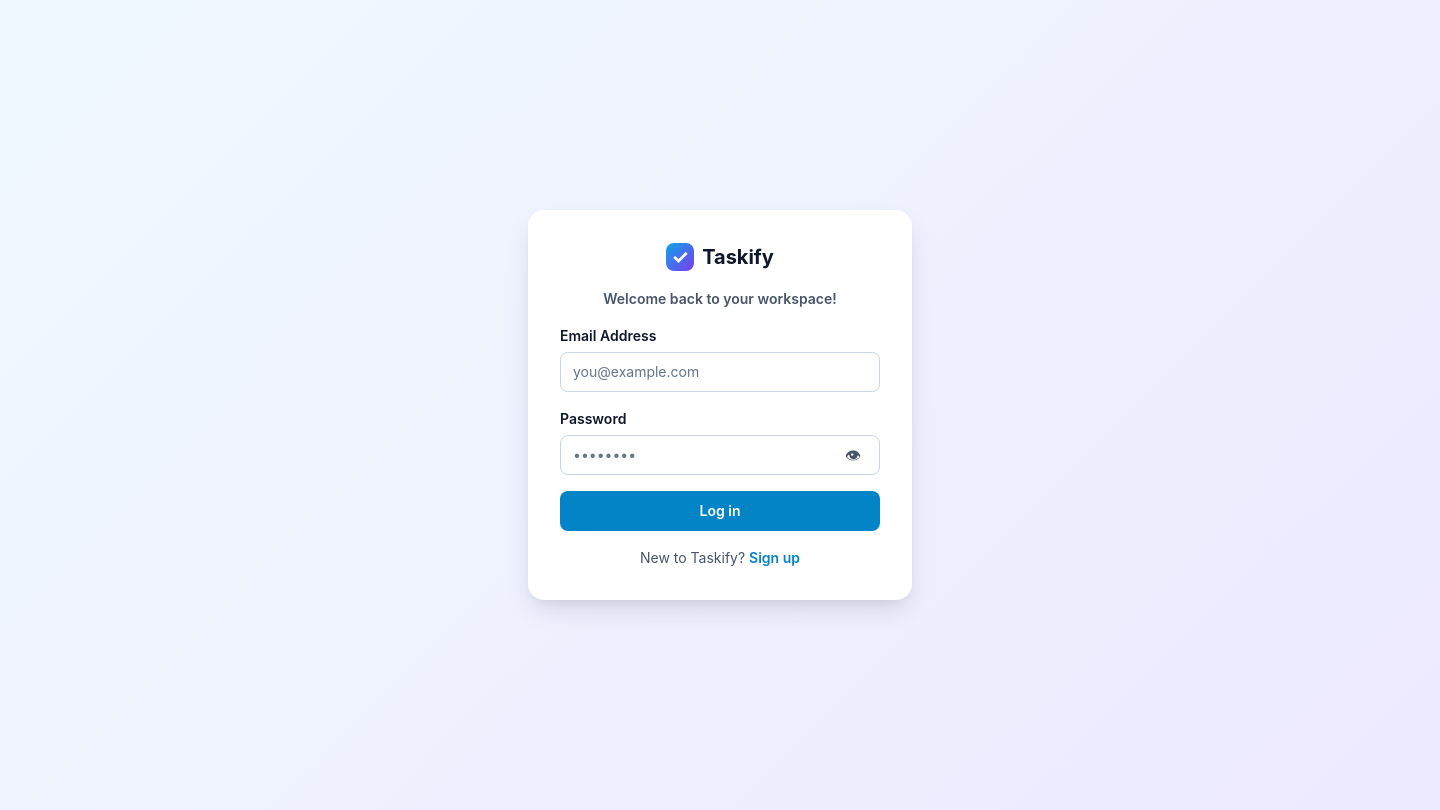
Test: LoginPage › logs in with real credentials and lands on the org's projects
Type "u-alex@acme.test" into the field labelled "Email Address" at point(720, 372), box [573,354,867,390]
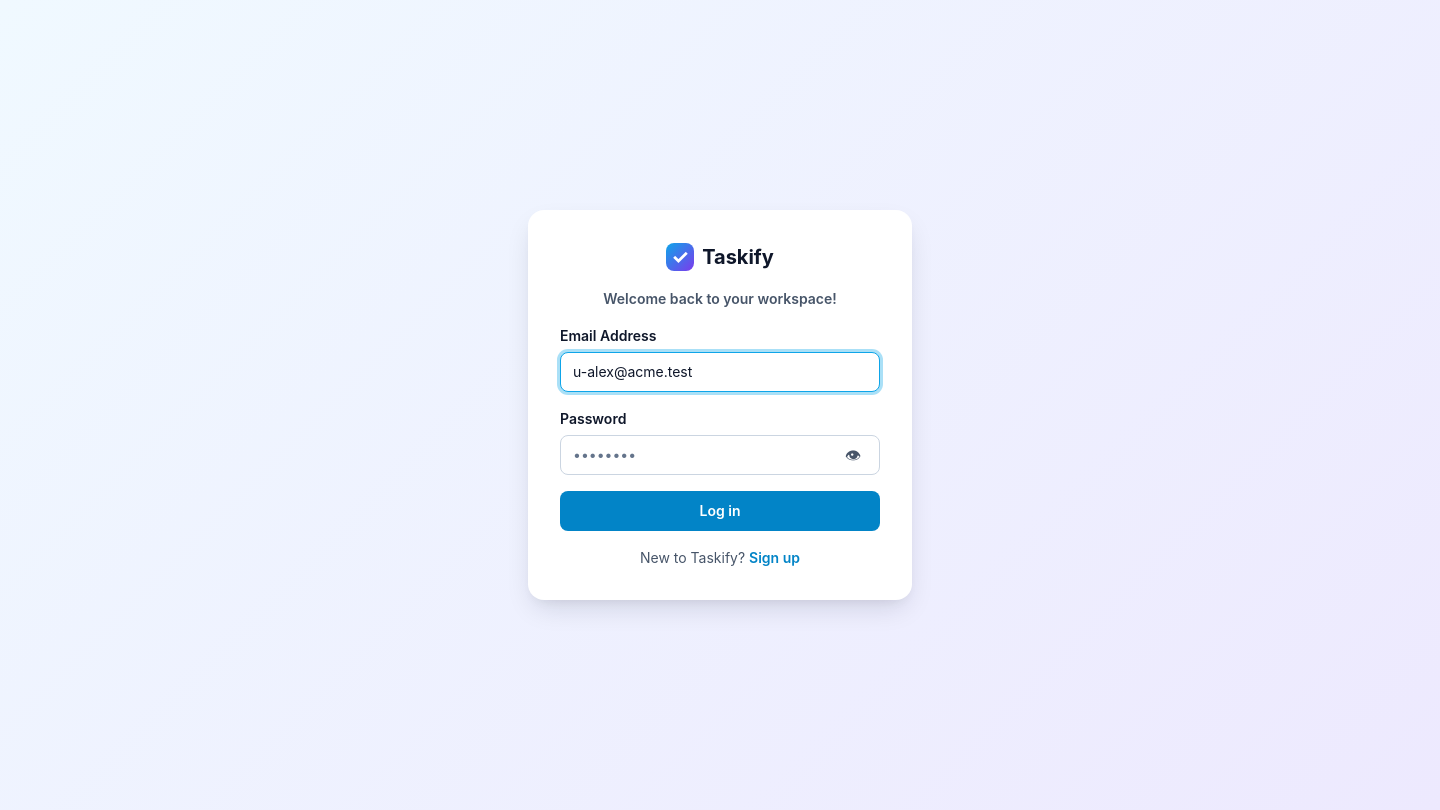
Type "supersecret1" into the password field labelled "Password" at point(702, 455), box [573,437,831,473]
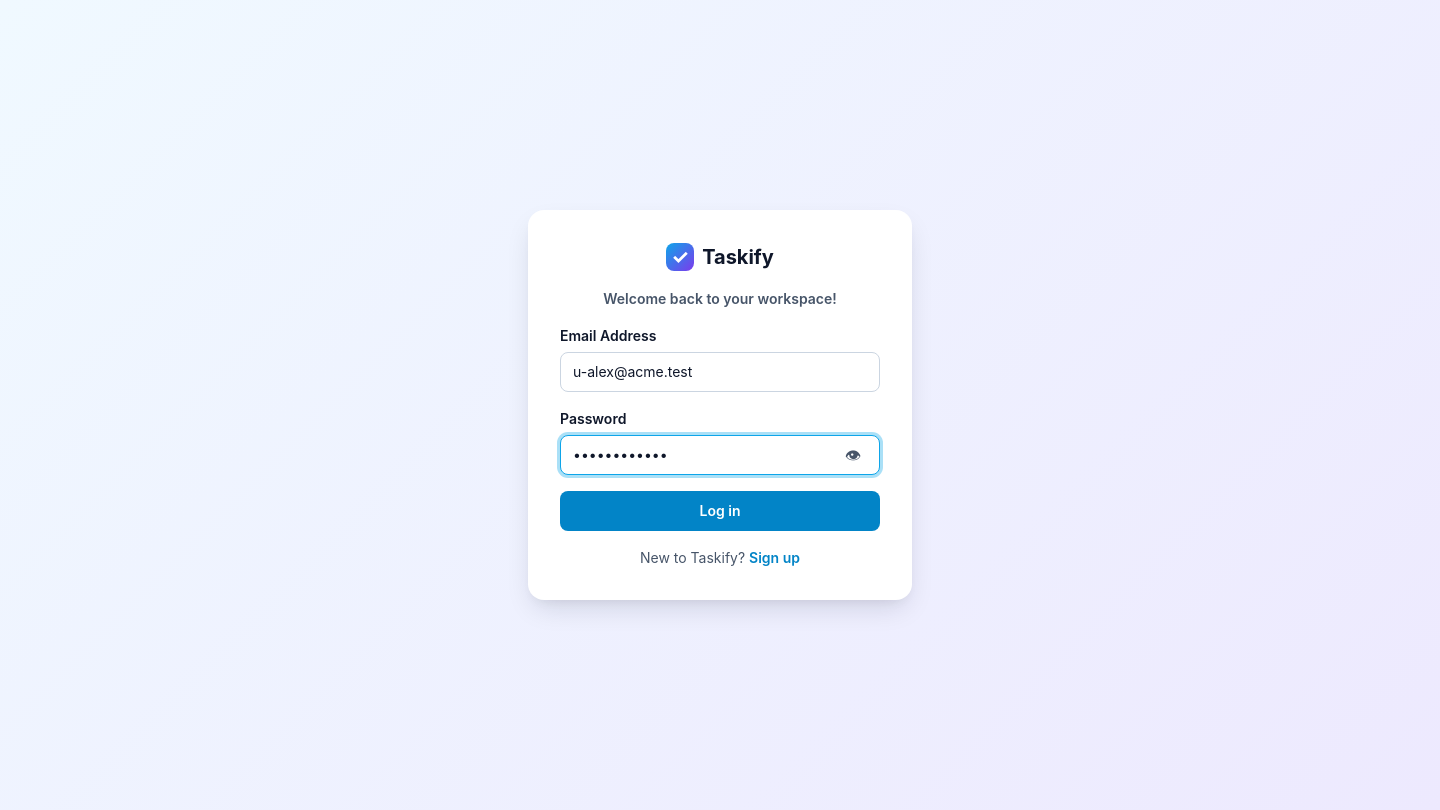
Click the button "Log in" at point(720, 511), box [560,491,880,531]
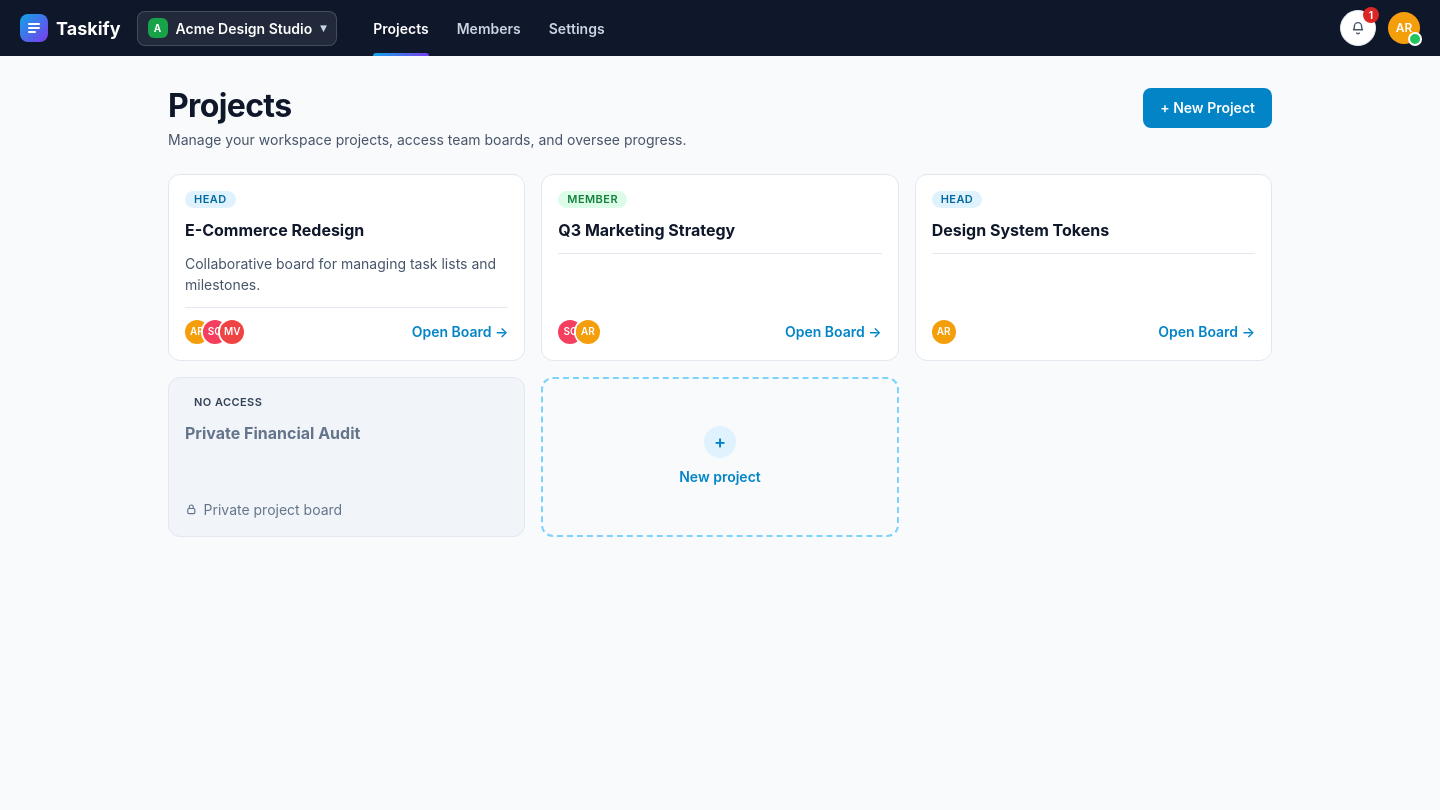
expect the heading "Projects" is shown: met, box [168,86,292,125]
